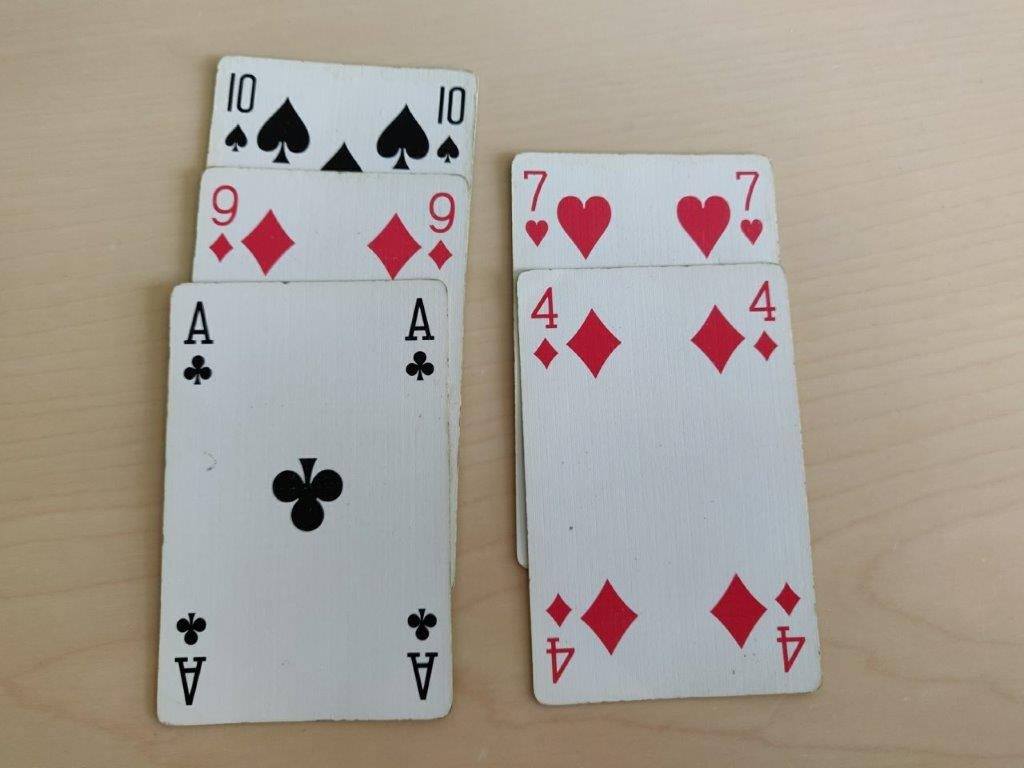10S: (217, 69, 259, 155), (431, 79, 469, 164)
4D: (527, 281, 566, 372), (746, 276, 784, 366)
7H: (729, 166, 767, 252), (518, 163, 555, 249)
9D: (207, 180, 241, 265), (425, 186, 457, 276)
AC: (177, 294, 221, 389), (399, 293, 439, 387)
